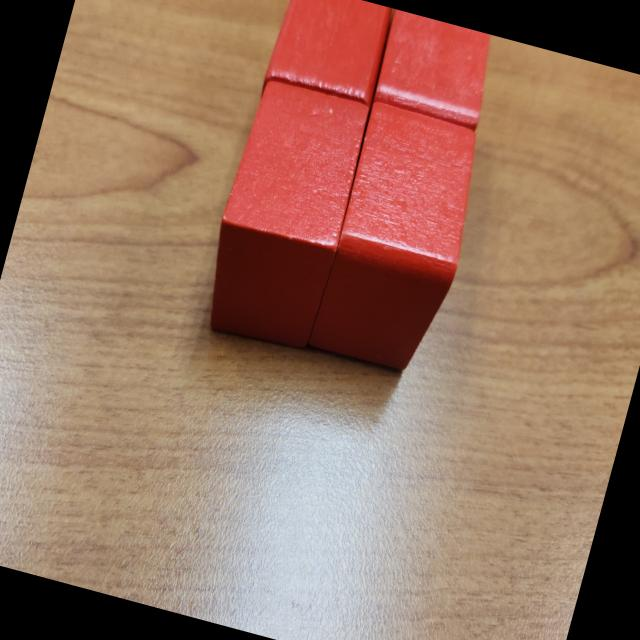red: (305, 97, 495, 383), (192, 76, 372, 360), (252, 0, 396, 130), (368, 9, 500, 130)
